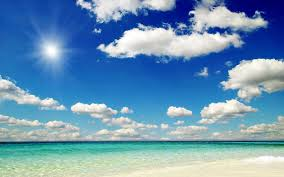beach: (2, 140, 284, 174)
sky: (1, 2, 280, 140)
